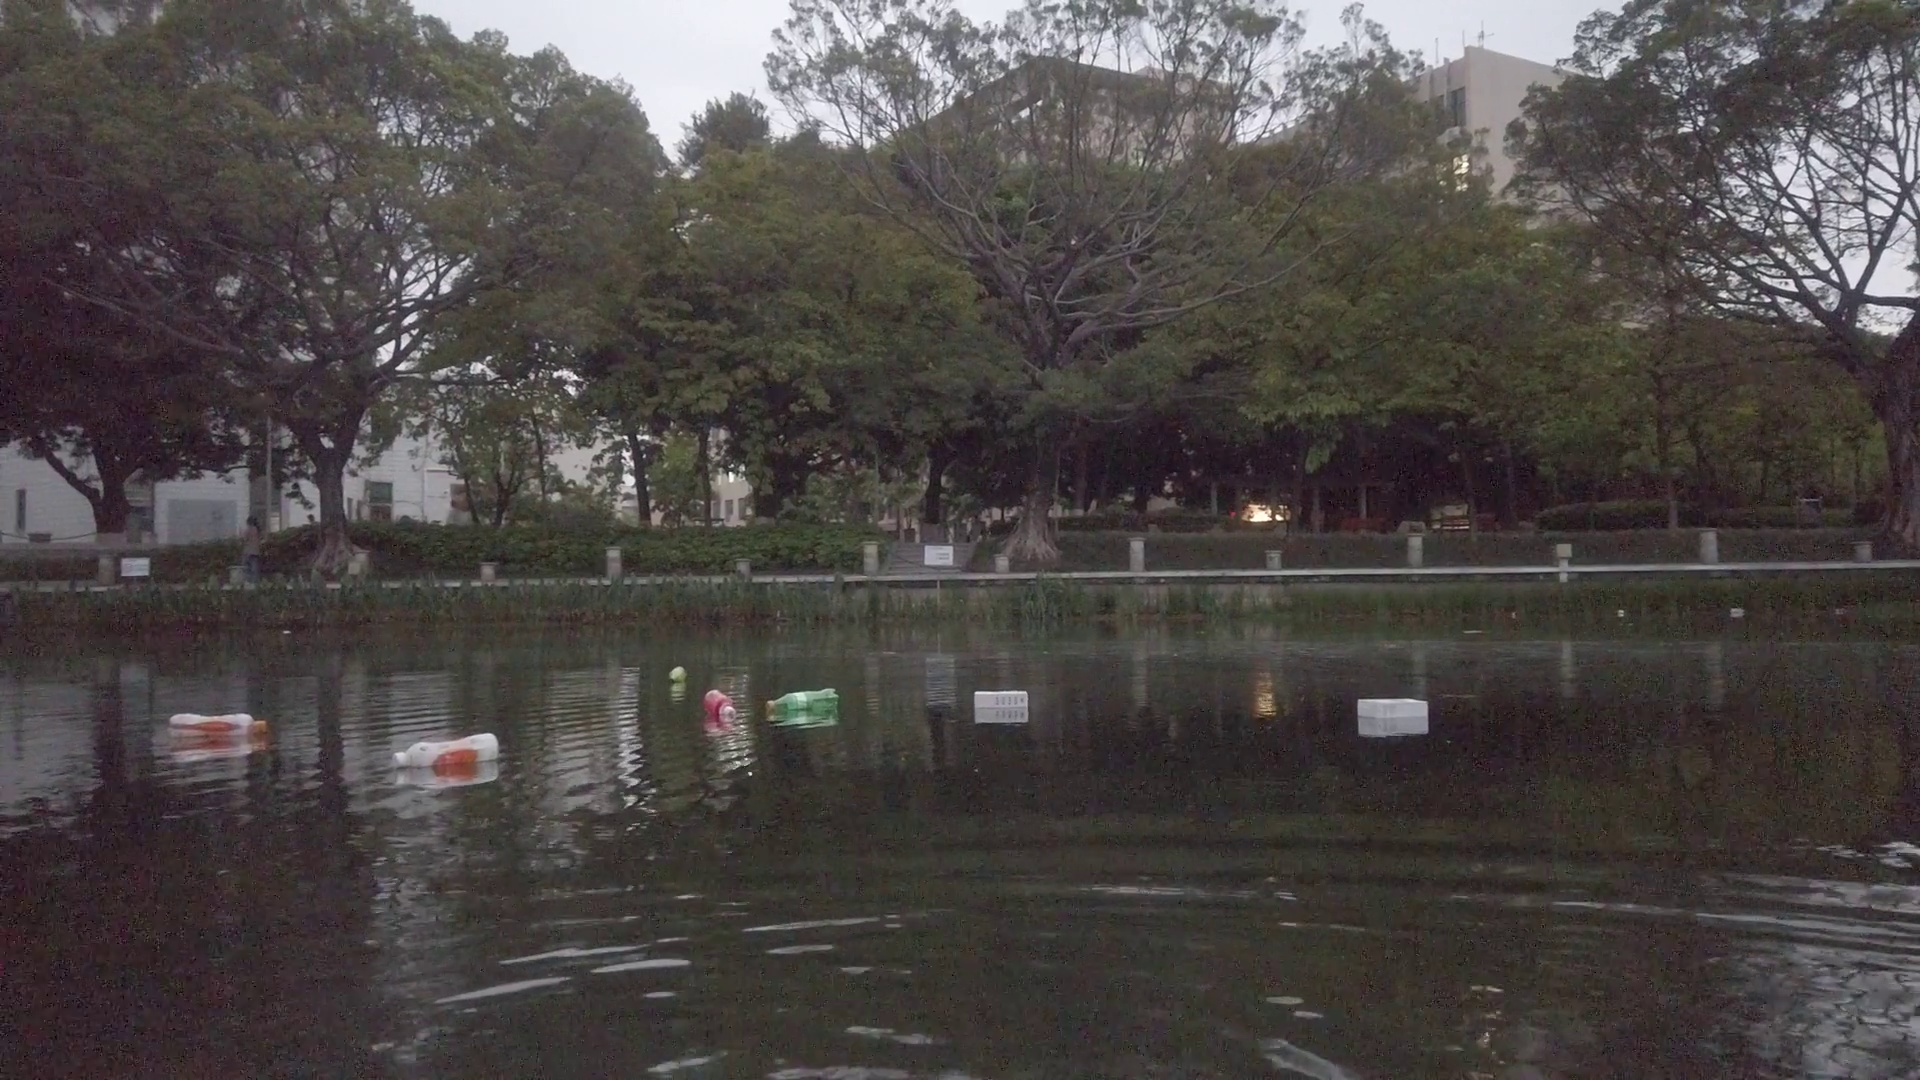bottle: (392, 735, 502, 765), (166, 712, 264, 738), (764, 686, 840, 713), (702, 684, 737, 725), (669, 665, 687, 684)
carton: (1356, 698, 1428, 719), (973, 688, 1030, 711), (1731, 607, 1743, 615)
